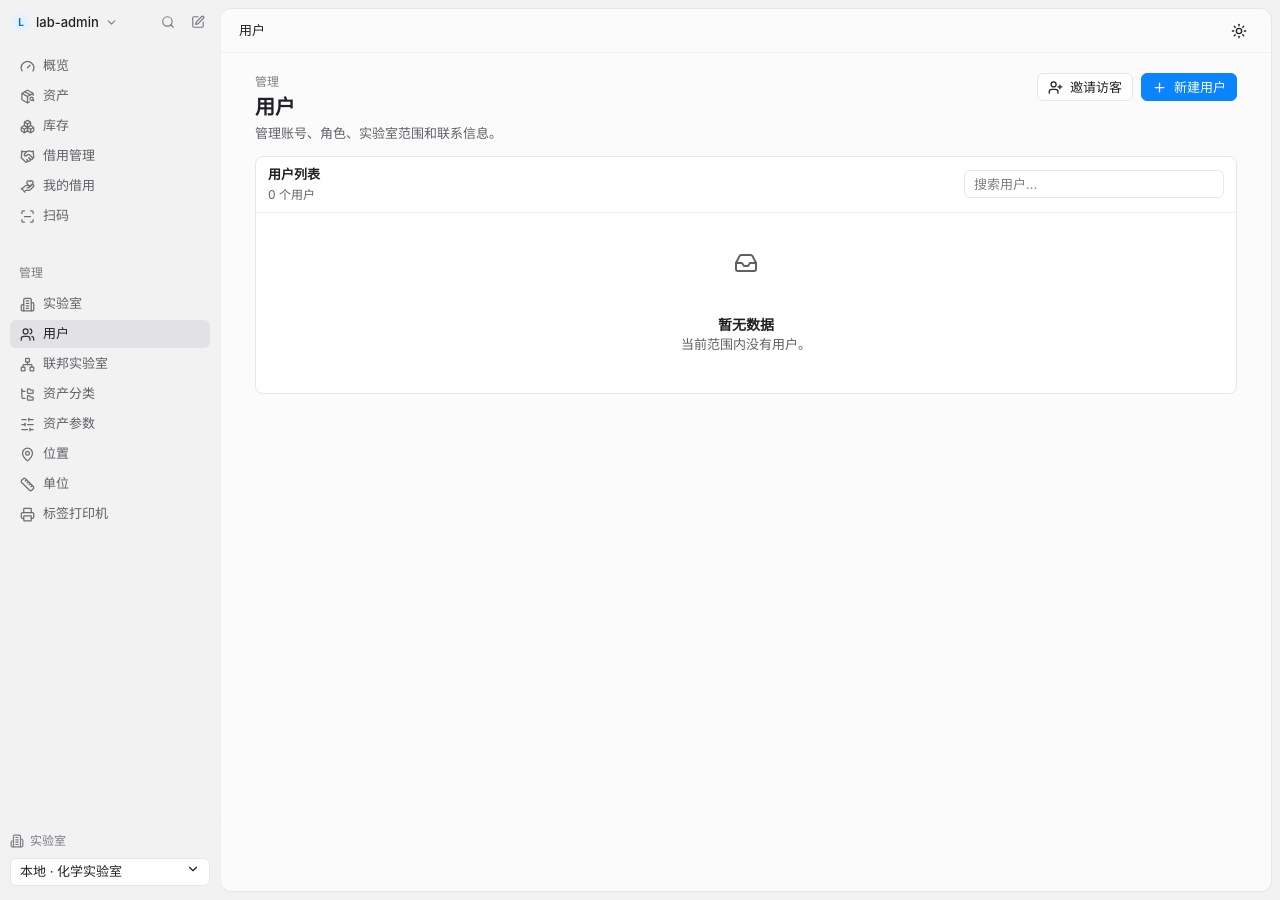
Test case: UsersPage laboratory picker › offers a laboratory admin their own laboratory
Click the button "新建用户": x=1189, y=87 top-left (1141, 73), bottom-right (1237, 101)
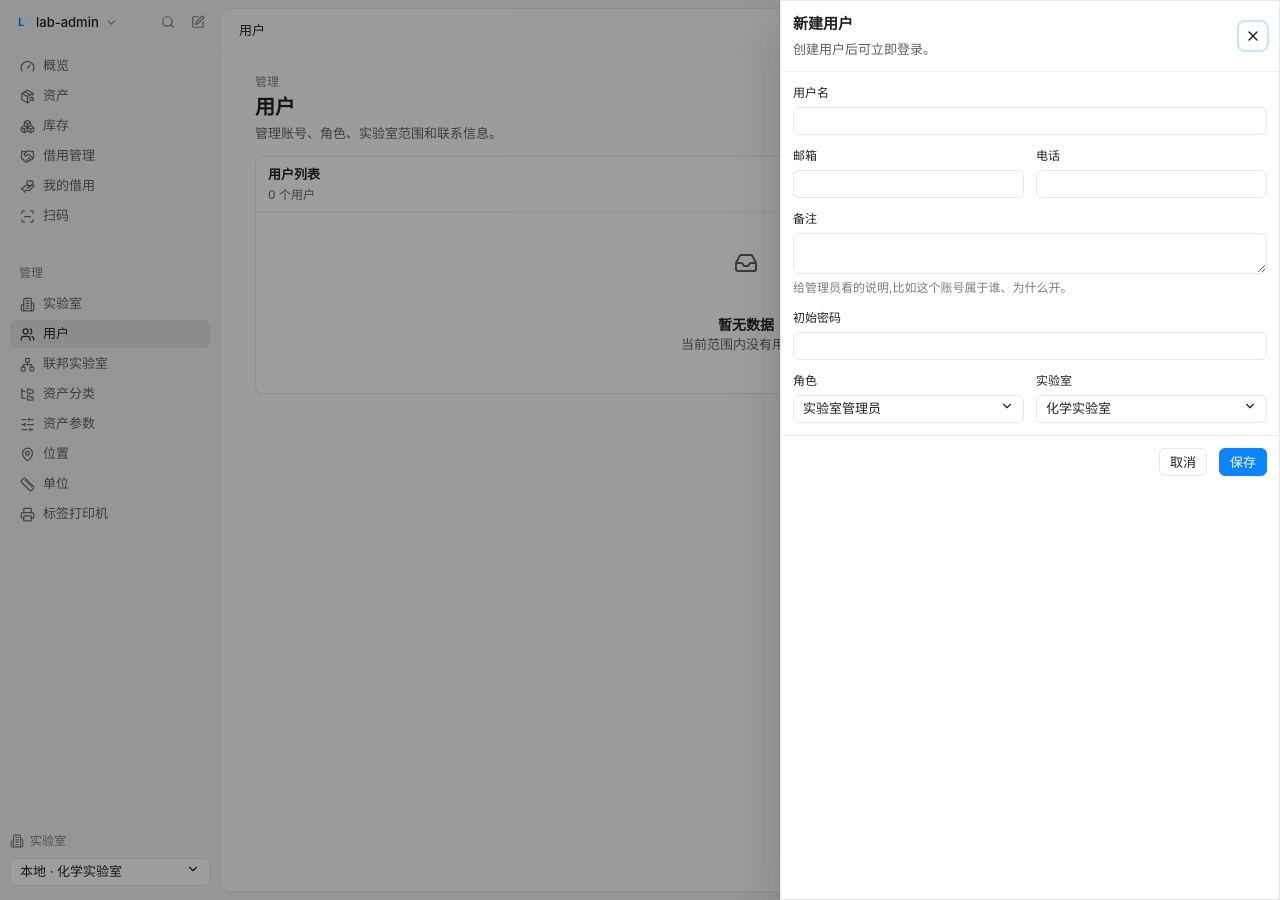
Click the dropdown labelled "实验室": x=1152, y=409 top-left (1036, 395), bottom-right (1267, 423)
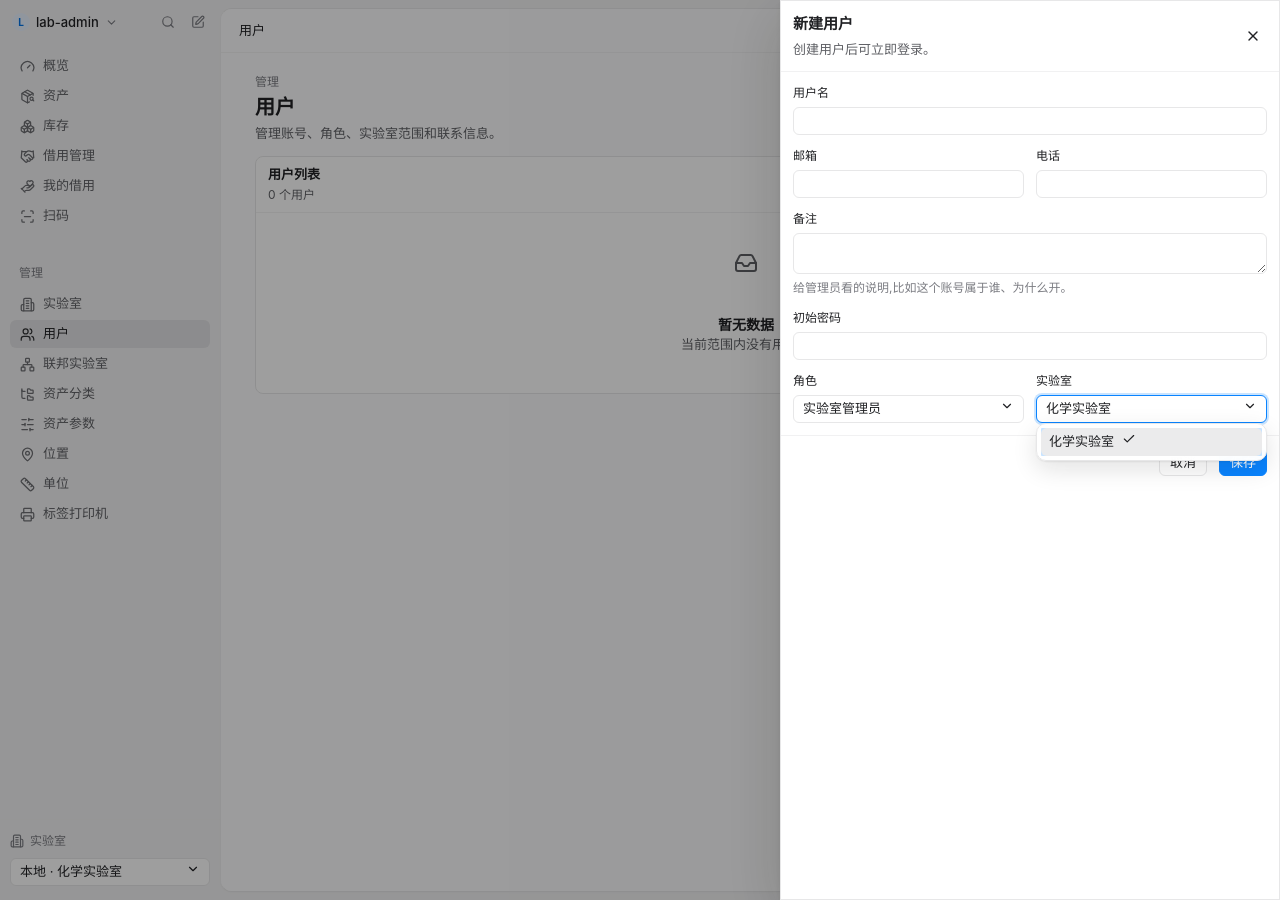
Expected: the option "化学实验室" is shown, top-left (1041, 428), bottom-right (1262, 456)
